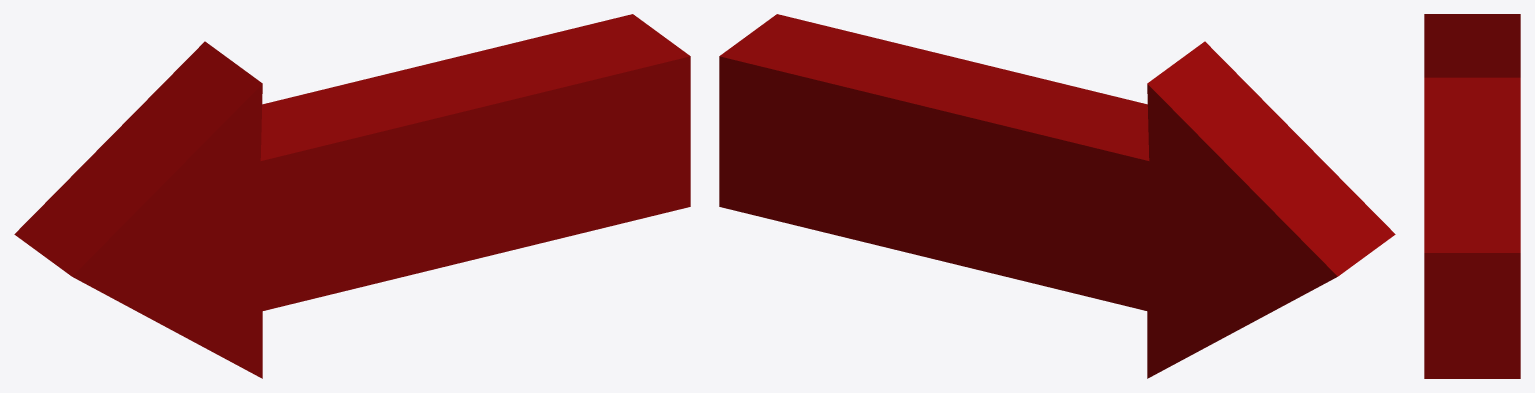
File: Arrow2.FBX
3 renders of one model, left to right at view 1: azimuth 30°, elevation 25°; view 2: azimuth 150°, elevation 25°; view 3: azimuth 270°, elevation 25°, orthographic. The views are drawn at different scales.
Parts seen in each view (by area): view 1: Line001; view 2: Line001; view 3: Line001.
Part boxes in pixels (<box>): Line001: <box>14,14,690,378</box>; Line001: <box>719,14,1395,378</box>; Line001: <box>1424,14,1520,378</box>.
Bounding box in the file's own units: 1.95 × 0.8884 × 0.315.
